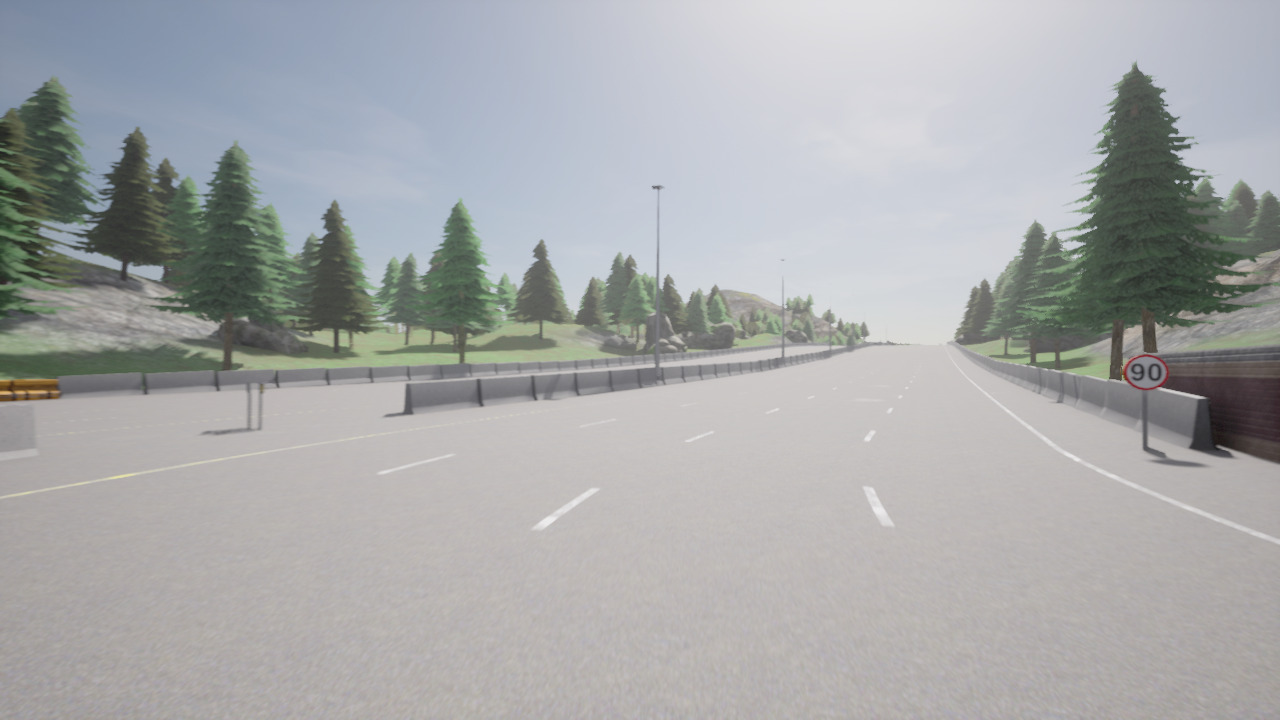sl90: (1120, 353, 1171, 391)
